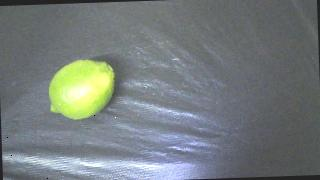LOCAL: (48, 58, 117, 120)
